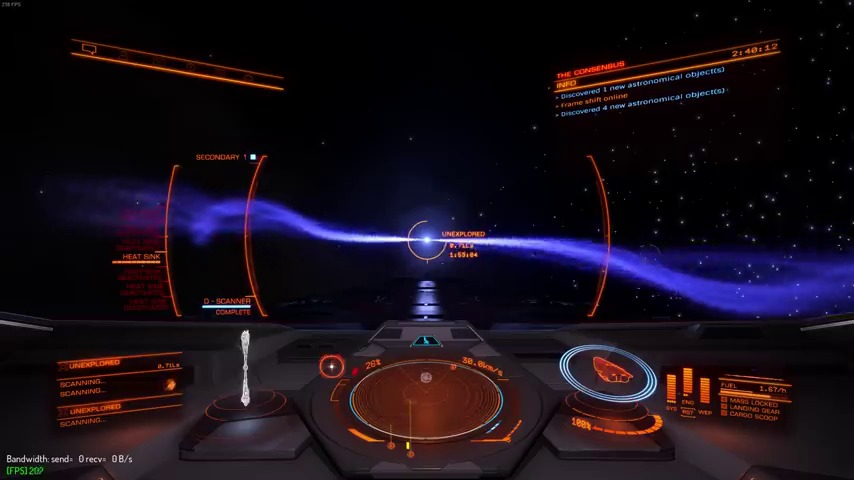jetcone: (454, 223, 852, 327), (457, 226, 851, 324)
